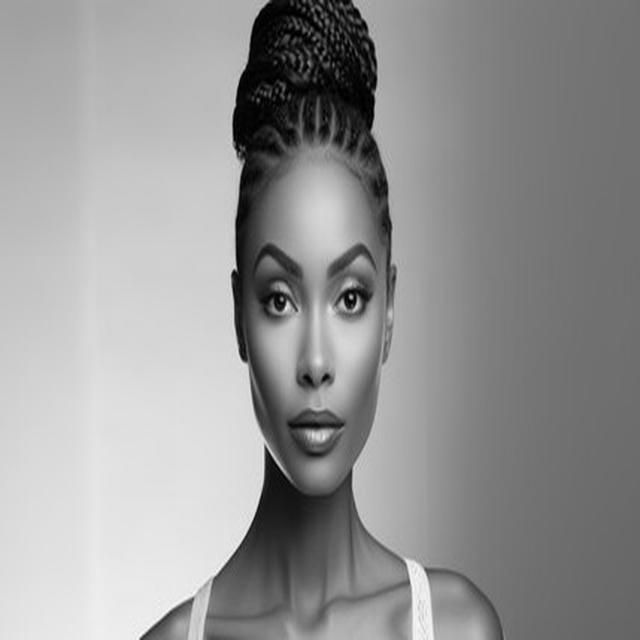Neutral: (242, 172, 387, 496)
